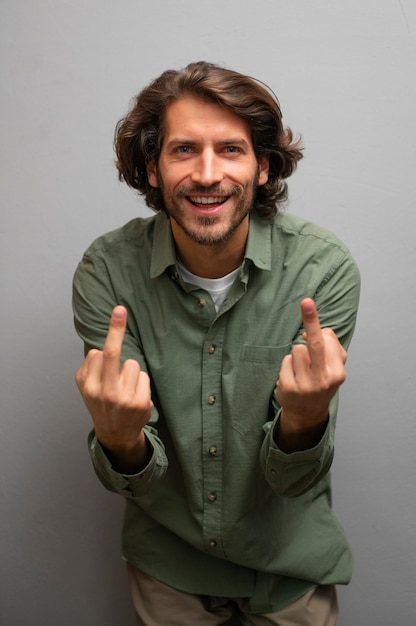insulting_gesture: (76, 304, 156, 450), (271, 295, 350, 417)
